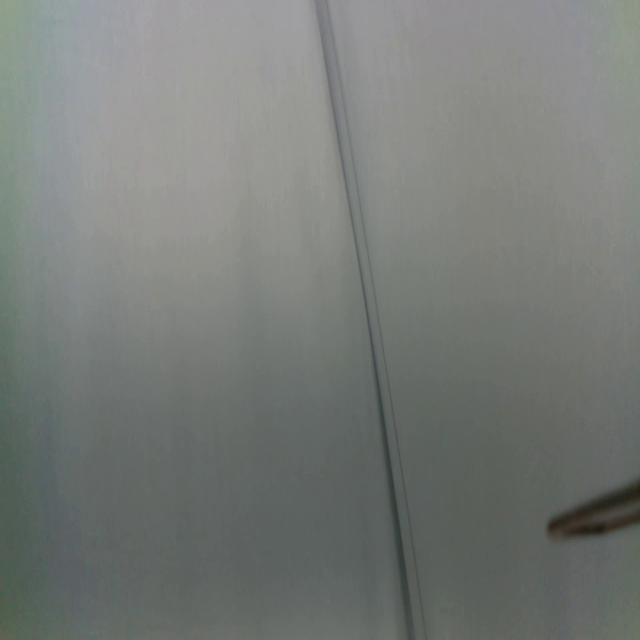crease: (317, 0, 428, 640)
